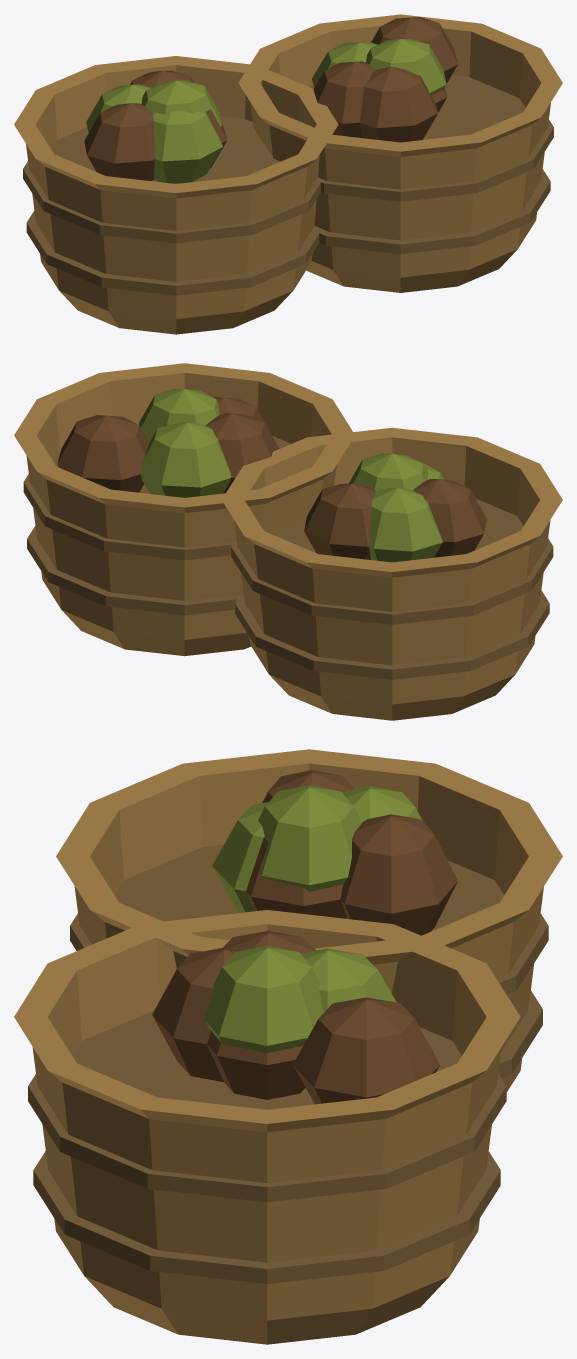
File: plantaz_cesta.glb
3 views of the same model, one above another, from view 1: azimuth 30°, elevation 25°; view 2: azimuth 150°, elevation 25°; view 3: azimuth 270°, elevation 25° (orthographic). The views are drawn at different scales.
Parts seen in each view (by area): view 1: kose; view 2: kose; view 3: kose.
Part boxes in pixels (x1,y1,x2,y2): kose: [14, 14, 562, 334]; kose: [14, 363, 562, 720]; kose: [14, 749, 562, 1344].
Size of what is drawn, in the model's own units: 2.1 by 0.8401 by 1.3.
Materials: 1 (1 with a texture image).
